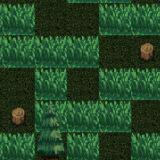Obstacle: (0, 100, 34, 132), (131, 35, 160, 68), (35, 133, 66, 160)
Slow: (0, 35, 100, 68), (34, 100, 131, 132), (100, 68, 160, 100), (99, 4, 160, 35), (0, 4, 35, 35), (35, 68, 67, 101), (0, 133, 35, 160), (67, 132, 99, 160), (132, 132, 160, 160)
